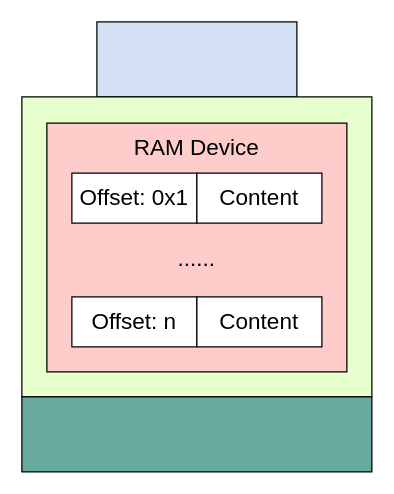
Image size: 394x494. Some labels were removed from this diagram. Each missing label, with the centre of its shape:
incremental checkpoint 1: (x=196, y=59)
VM State: Cpu states (t'): (x=196, y=434)
